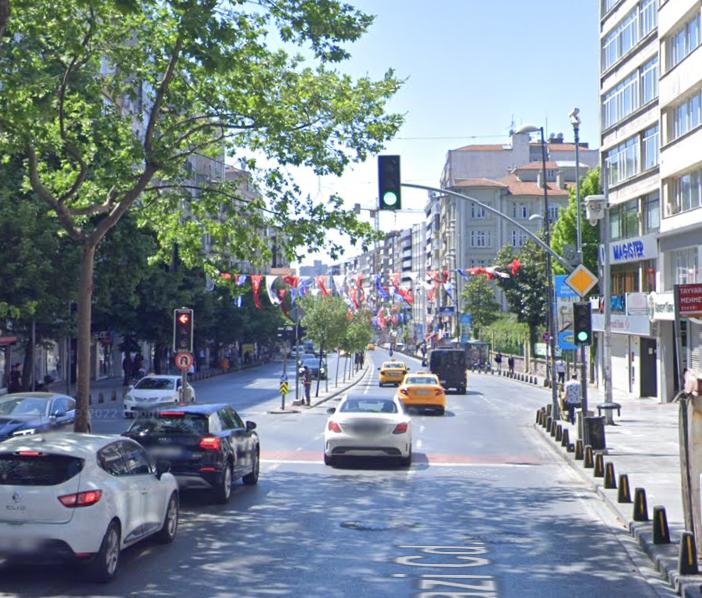greenlight: (376, 154, 402, 208), (573, 302, 592, 349)
redlight: (174, 309, 195, 350)
